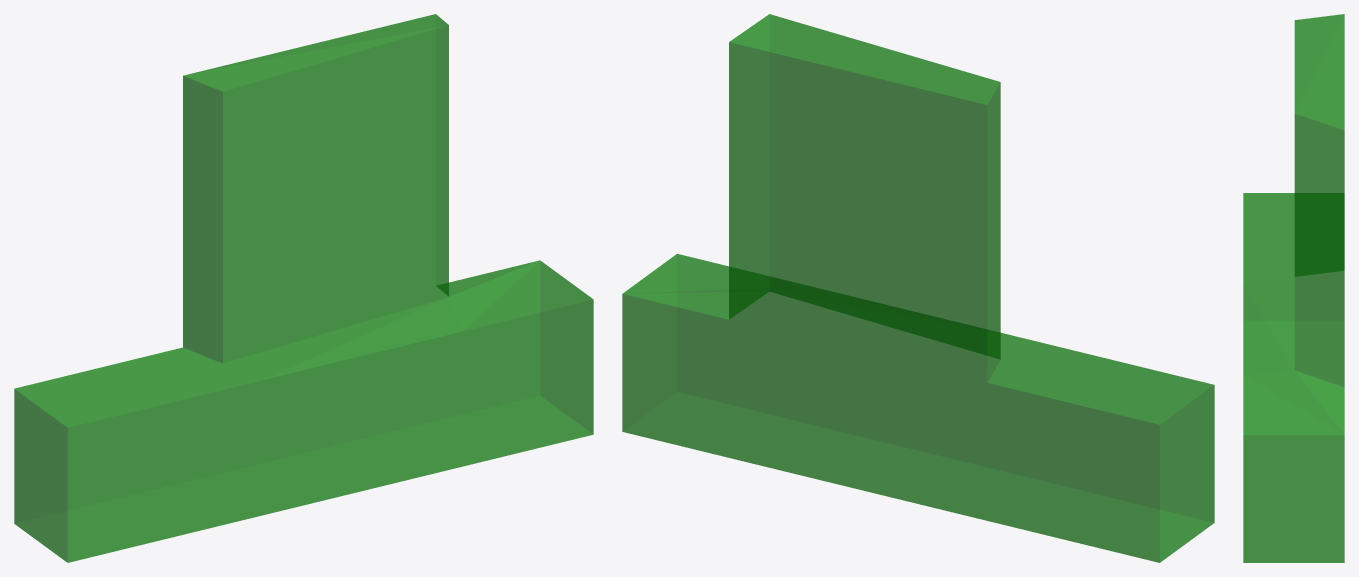
File: hit_A1_kabe2.obj
3 views of the same model, side by side, from view 1: azimuth 30°, elevation 25°; view 2: azimuth 150°, elevation 25°; view 3: azimuth 270°, elevation 25° (orthographic). The views are drawn at different scales.
Size of the model in its own units: 22.68 by 17.23 by 4.
